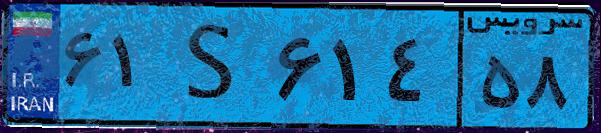1: (330, 28, 385, 110), (110, 28, 158, 98)
4: (385, 28, 445, 110)
5: (475, 38, 525, 113)
6: (270, 28, 330, 110), (57, 26, 110, 100)
8: (525, 38, 570, 115)
S: (158, 12, 270, 120)
